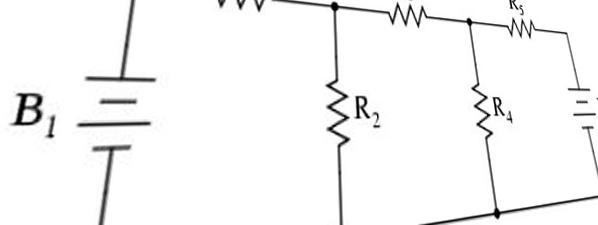resistor: (315, 66, 351, 158), (368, 0, 441, 35), (461, 70, 488, 145), (492, 15, 551, 47)
